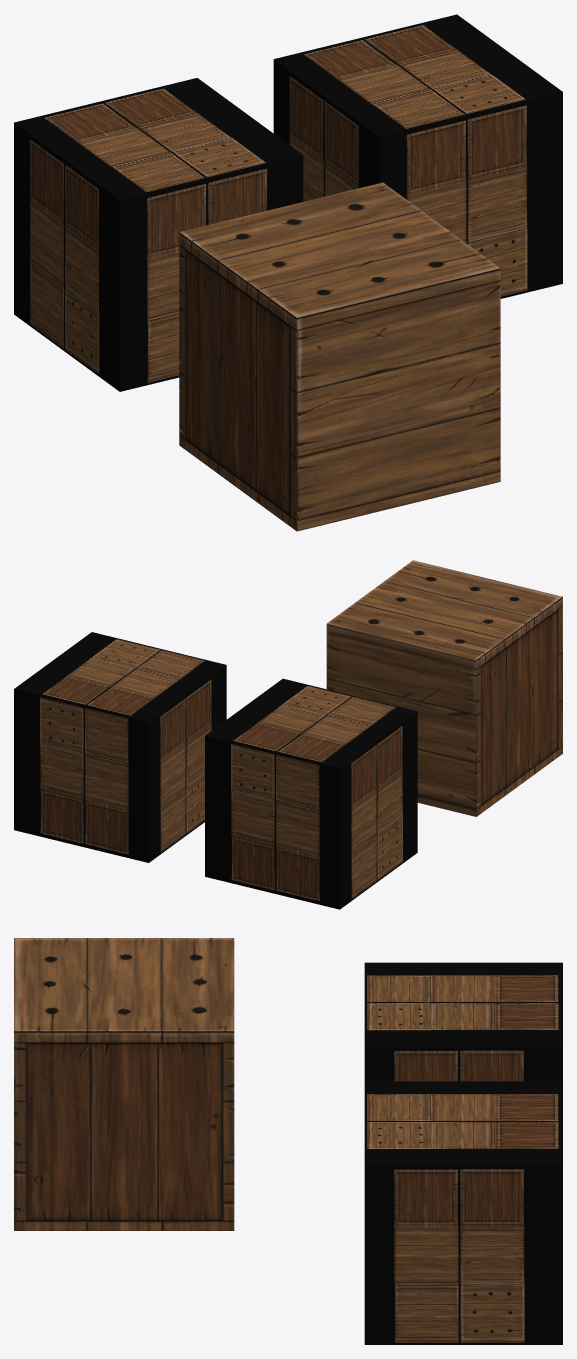
File: modelBox.fbx
3 views of the same model, one above another, from view 1: azimuth 30°, elevation 25°; view 2: azimuth 150°, elevation 25°; view 3: azimuth 270°, elevation 25° (orthographic). The views are drawn at different scales.
Visible parts, largest first — view 1: modelBox, modelBox_cage, modelBox_cage_twosided; view 2: modelBox, modelBox_cage, modelBox_cage_twosided; view 3: modelBox, modelBox_cage_twosided, modelBox_cage.
Part boxes in pixels (x1=…): modelBox: x1=179, y1=182, x2=500, y2=531; modelBox_cage: x1=14, y1=78, x2=303, y2=391; modelBox_cage_twosided: x1=273, y1=14, x2=562, y2=298; modelBox: x1=326, y1=560, x2=562, y2=816; modelBox_cage: x1=205, y1=678, x2=417, y2=909; modelBox_cage_twosided: x1=14, y1=632, x2=226, y2=862; modelBox: x1=14, y1=938, x2=234, y2=1230; modelBox_cage_twosided: x1=364, y1=1081, x2=562, y2=1344; modelBox_cage: x1=364, y1=962, x2=562, y2=1081.
Bounding box in the file's own units: 87.32 × 39.26 × 97.82.
